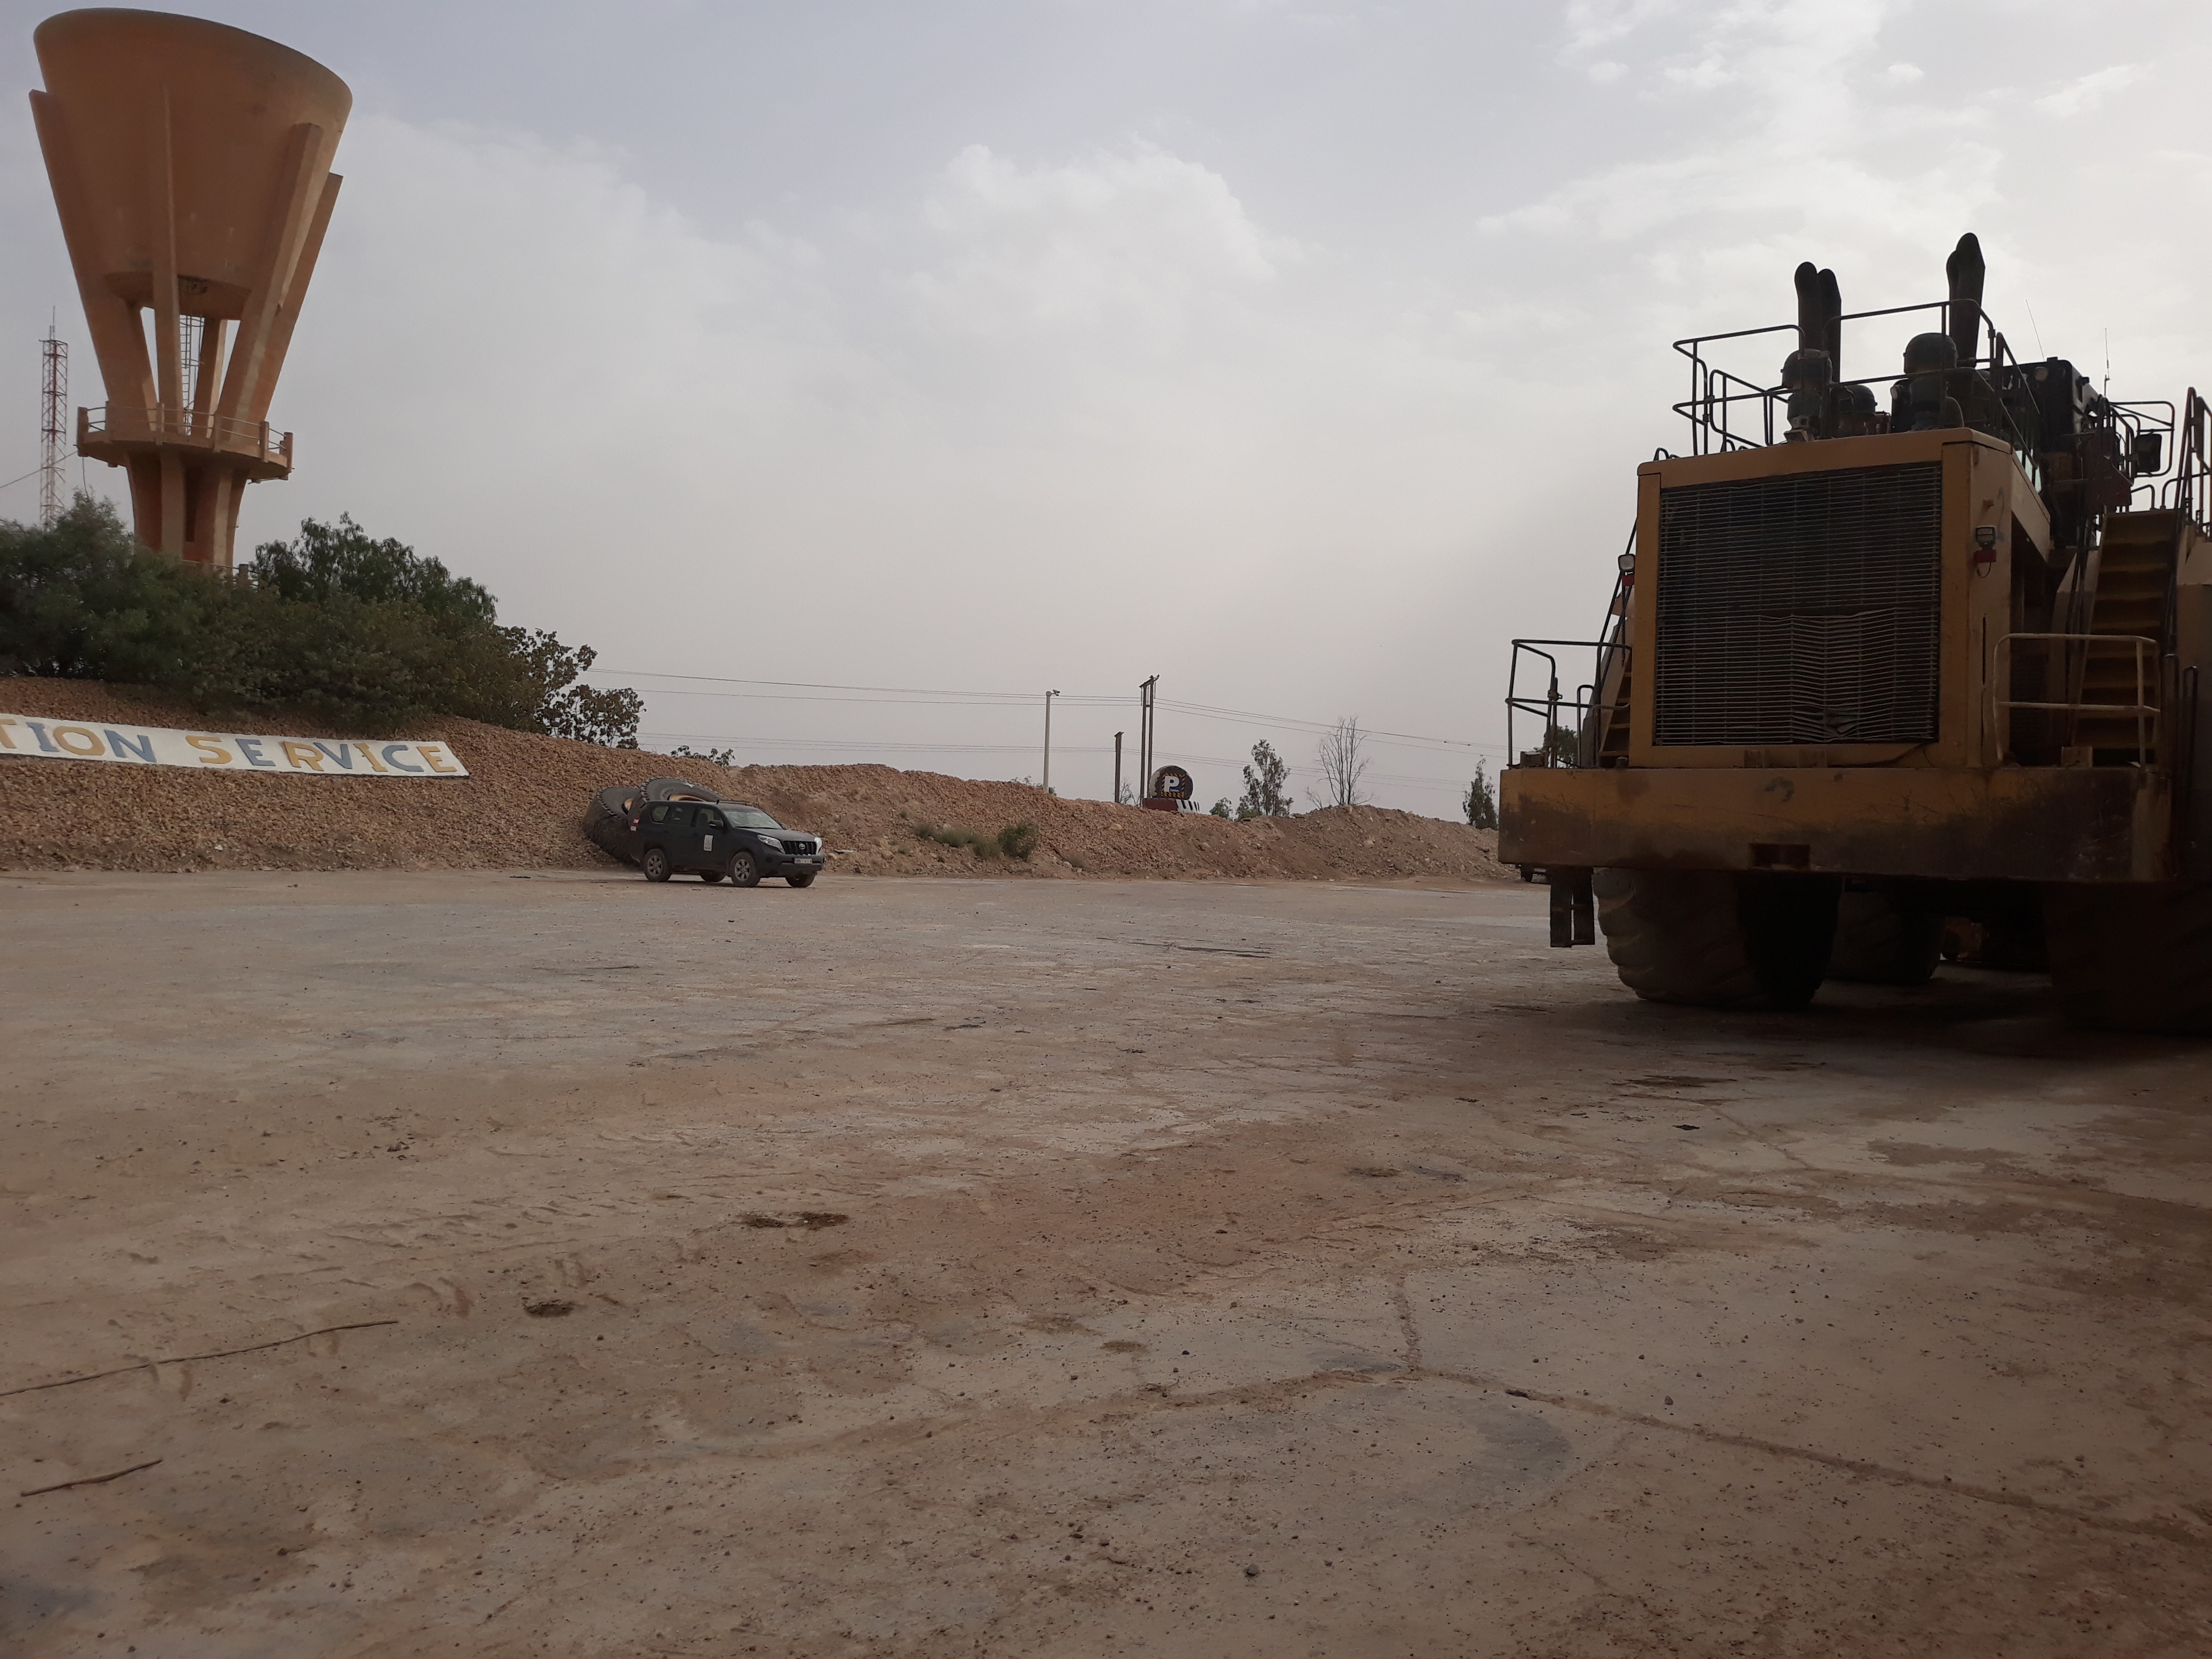car: (620, 782, 841, 917)
chargeuse: (1496, 193, 2212, 1079)
